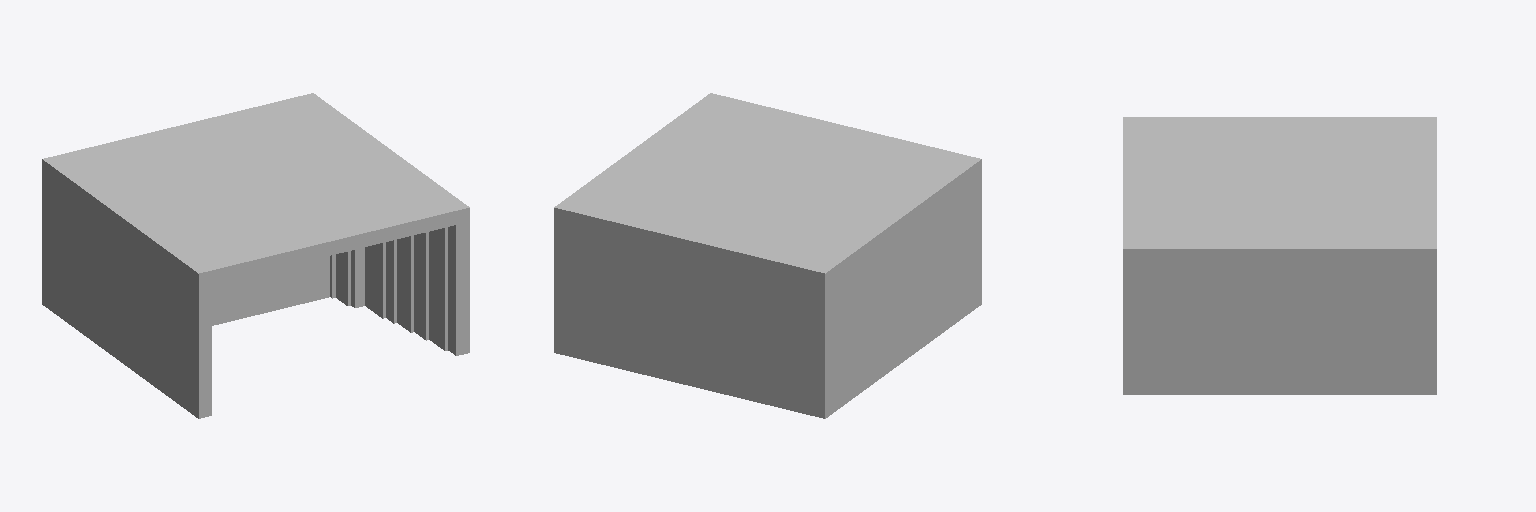
File: cave.obj
3 views of the same model, side by side, from view 1: azimuth 30°, elevation 25°; view 2: azimuth 150°, elevation 25°; view 3: azimuth 270°, elevation 25° (orthographic).
Visible parts, largest first — view 1: object 1; view 2: object 1; view 3: object 1.
Part boxes in pixels (bbox=[...]): object 1: bbox=[42, 93, 469, 418]; object 1: bbox=[554, 93, 981, 418]; object 1: bbox=[1123, 117, 1436, 394].
Bounding box in the file's own units: 8 × 4.1 × 8.